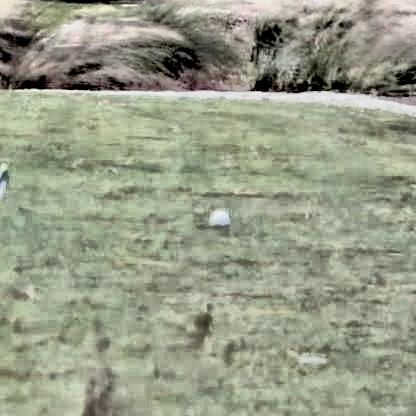golfball: (206, 207, 227, 228)
